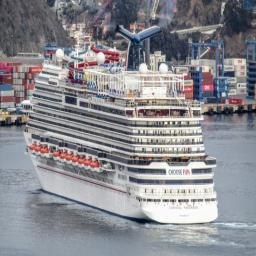cruises: (23, 25, 223, 227)
